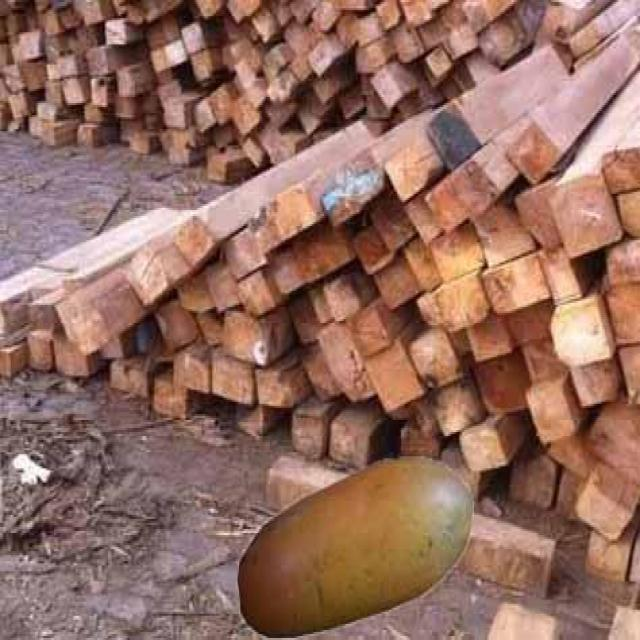Pepaya rippen: (234, 460, 484, 640)
